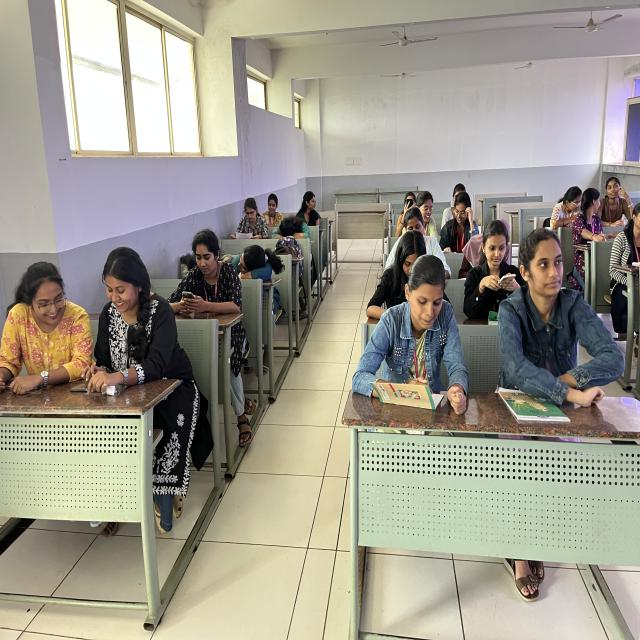Reading: (233, 190, 273, 244)
Sleeping: (270, 208, 316, 266)
Using Phone: (69, 239, 180, 409), (168, 228, 246, 361), (462, 219, 524, 323)
Writing: (342, 252, 488, 430)
